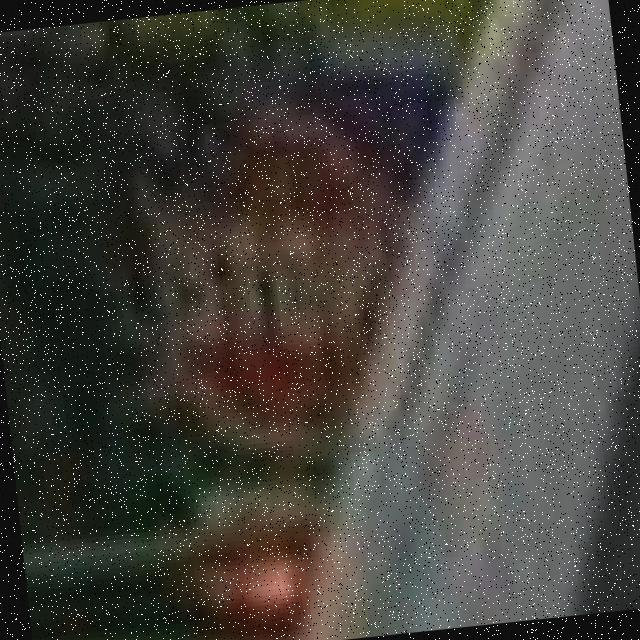Stop: (165, 184, 348, 451)
